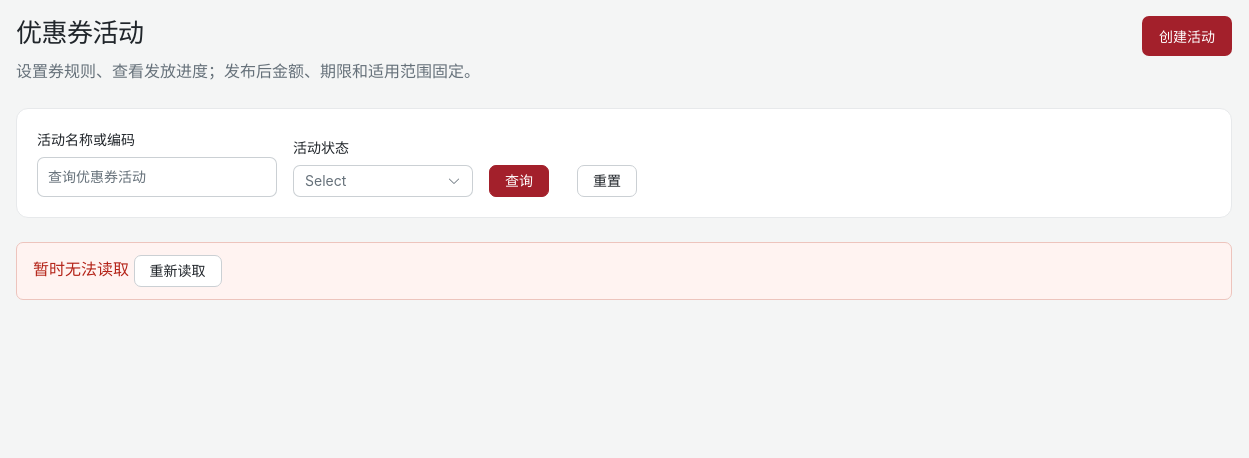
Test case: coupon workspace layout › keeps legacy quota explicitly unknown and supports retry after a read error
expect the message "暂时无法读取 重新读取" is shown: met, box left=16, top=242, right=1232, bottom=300
Click the button "重新读取": click(178, 271) left=134, top=255, right=222, bottom=287
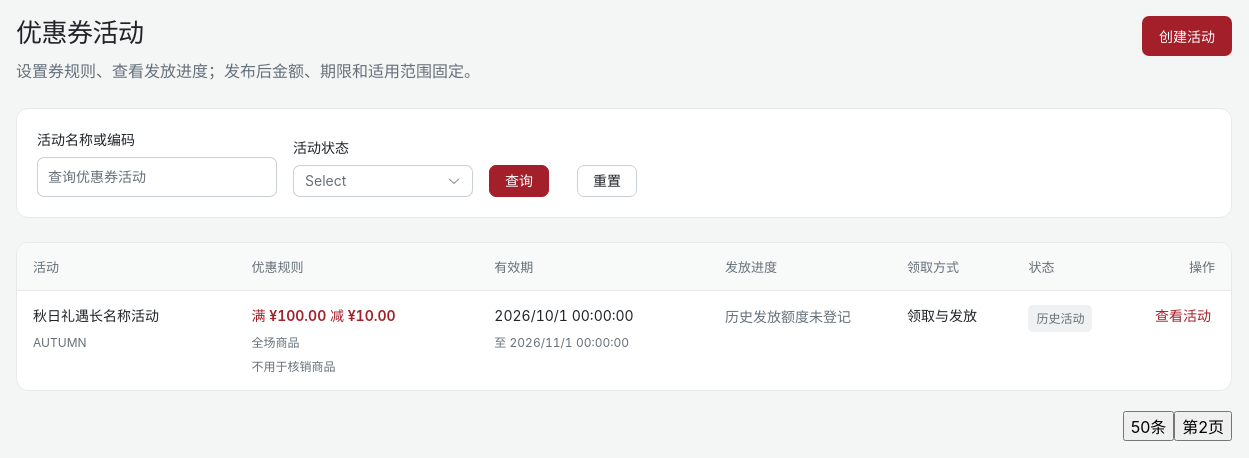
expect the text "历史发放额度未登记" is shown: met, box left=725, top=308, right=851, bottom=325
